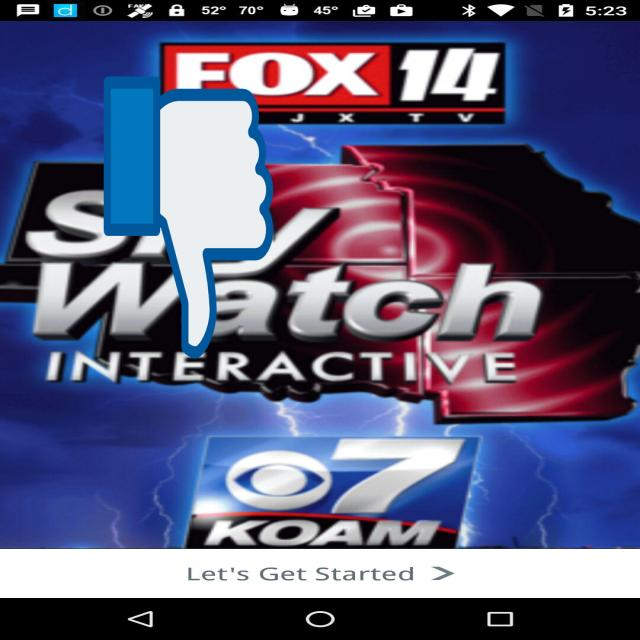obstruction: (104, 70, 273, 365)
